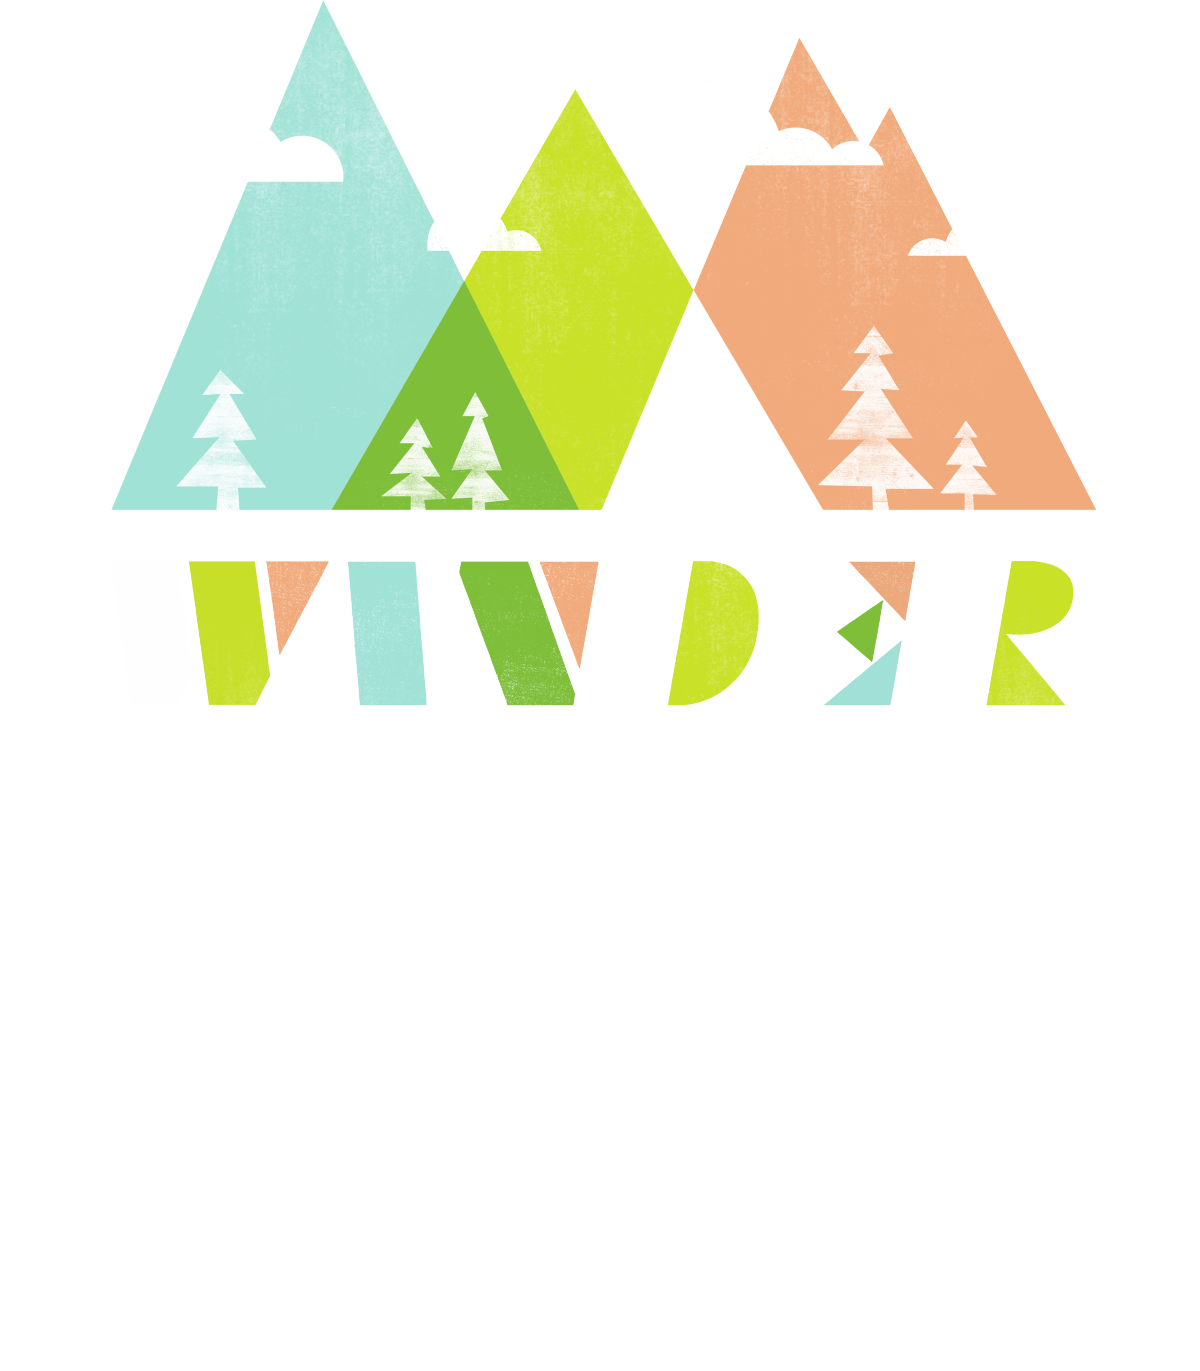design: (78, 1, 1137, 746)
